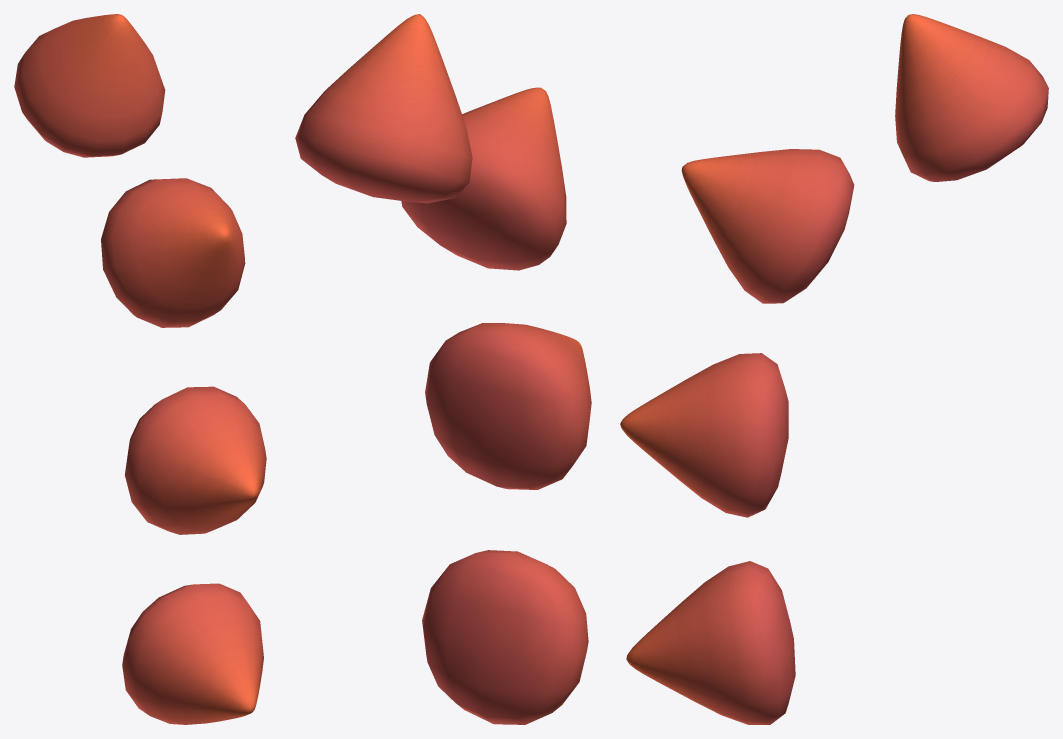
File: Attach_Spikes.fbx
3 views of the same model, side by side, from view 1: azimuth 30°, elevation 25°; view 2: azimuth 150°, elevation 25°; view 3: azimuth 270°, elevation 25° (orthographic). The views are drawn at different scales.
Parts seen in each view (by area): view 1: Attach_Spikes; view 2: Attach_Spikes; view 3: Attach_Spikes.
Boxes of the visible parts, bbox=[...] form: Attach_Spikes: bbox=[14, 14, 266, 724]; Attach_Spikes: bbox=[295, 14, 591, 724]; Attach_Spikes: bbox=[620, 14, 1048, 724].
Size of the model in its own units: 0.2897 by 0.7542 by 1.36.
